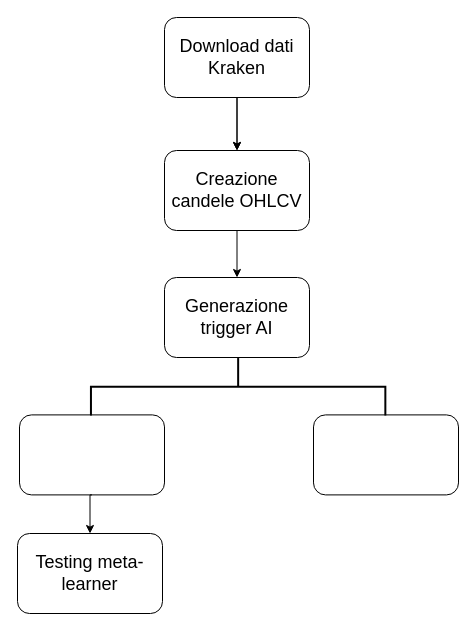
Image size: 476x631. Some labels were removed from this diagram. Here are the shapes that lost their labels. From the top down, the centre of each, then its label:
the point at 91,454: Sviluppo meta-learner
the point at 385,454: Test comparativi
